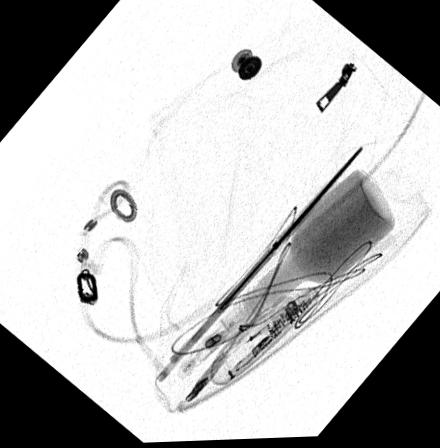Scissors: (151, 142, 364, 387)
